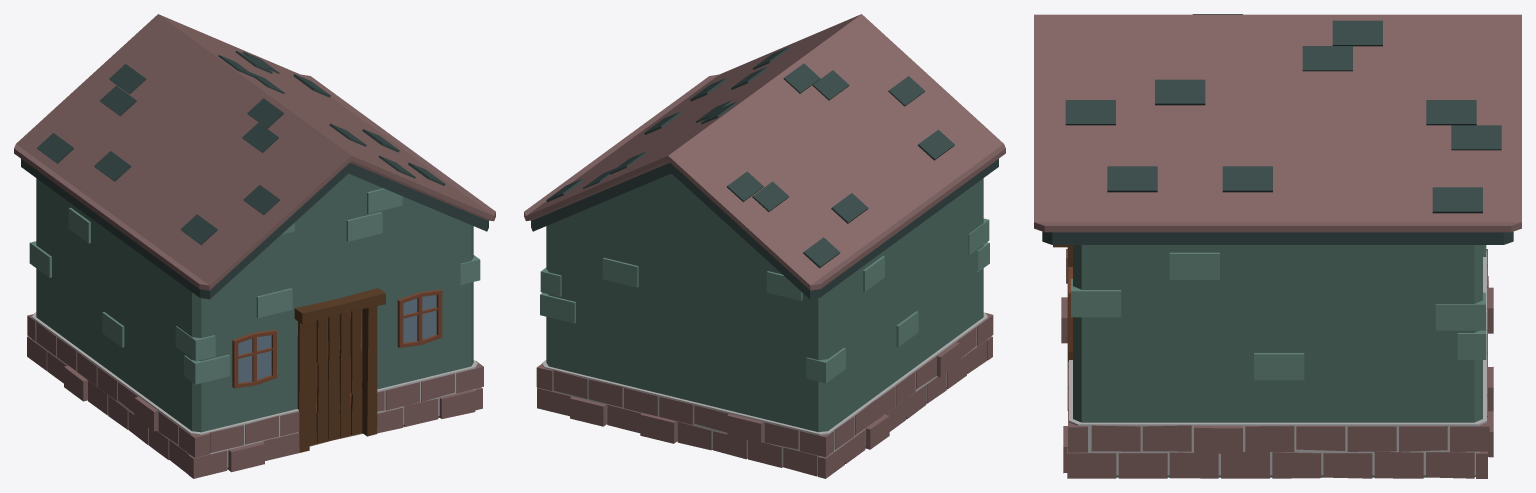
The model's file is 1Story_GableRoof_Mat.glb.
The picture shows the model from 3 angles, left to right: view 1: azimuth 30°, elevation 25°; view 2: azimuth 150°, elevation 25°; view 3: azimuth 270°, elevation 25°; orthographic projection. The views are drawn at different scales.
Parts seen in each view (by area): view 1: 1Story_GableRoof_Mat; view 2: 1Story_GableRoof_Mat; view 3: 1Story_GableRoof_Mat.
Boxes of the visible parts, bbox=[...] form: 1Story_GableRoof_Mat: bbox=[14, 14, 495, 478]; 1Story_GableRoof_Mat: bbox=[524, 14, 1005, 478]; 1Story_GableRoof_Mat: bbox=[1034, 14, 1521, 478].
Bounding box in the file's own units: 2.11 × 2.02 × 2.38.
